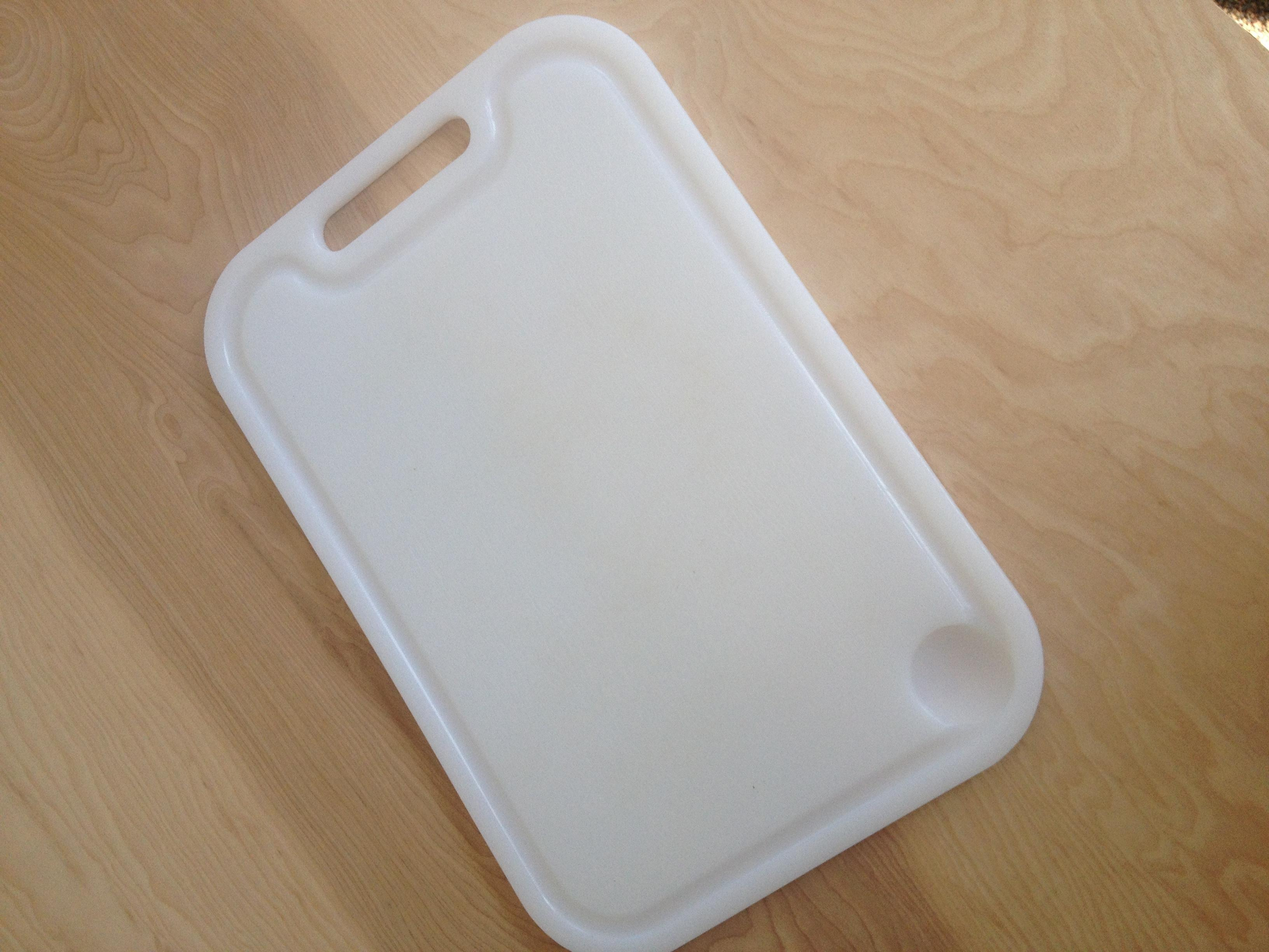gloved_hand: (220, 0, 1074, 949)
